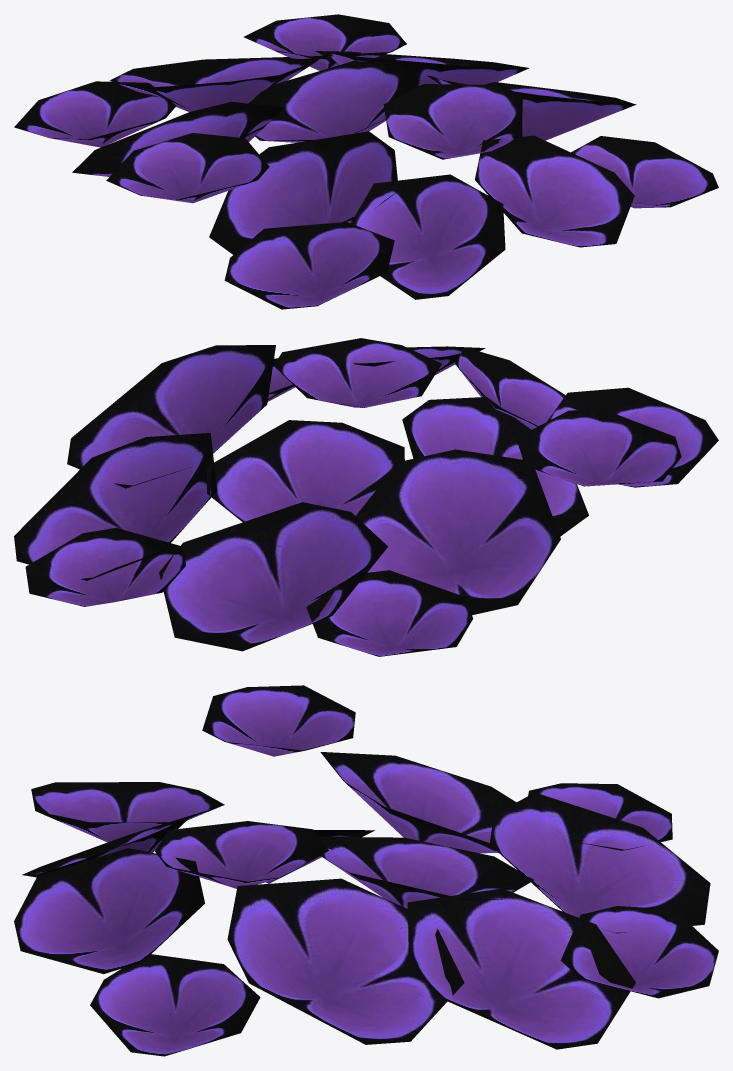
File: plant_7_big.gltf
3 views of the same model, one above another, from view 1: azimuth 30°, elevation 25°; view 2: azimuth 150°, elevation 25°; view 3: azimuth 270°, elevation 25° (orthographic). The views are drawn at different scales.
Visible parts, largest first — view 1: Plant_7_Big; view 2: Plant_7_Big; view 3: Plant_7_Big.
Boxes of the visible parts, left/top/right/bottom form: Plant_7_Big: left=14, top=14, right=718, bottom=309; Plant_7_Big: left=14, top=338, right=718, bottom=656; Plant_7_Big: left=14, top=685, right=718, bottom=1056.
Bounding box in the file's own units: 1.31 × 0.2534 × 1.36.
Materials: 1 (1 with a texture image).
